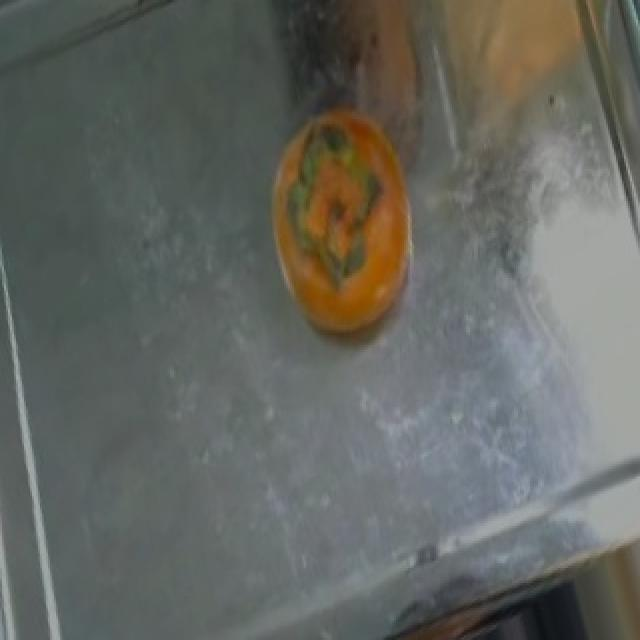Fruit: (256, 85, 438, 352)
